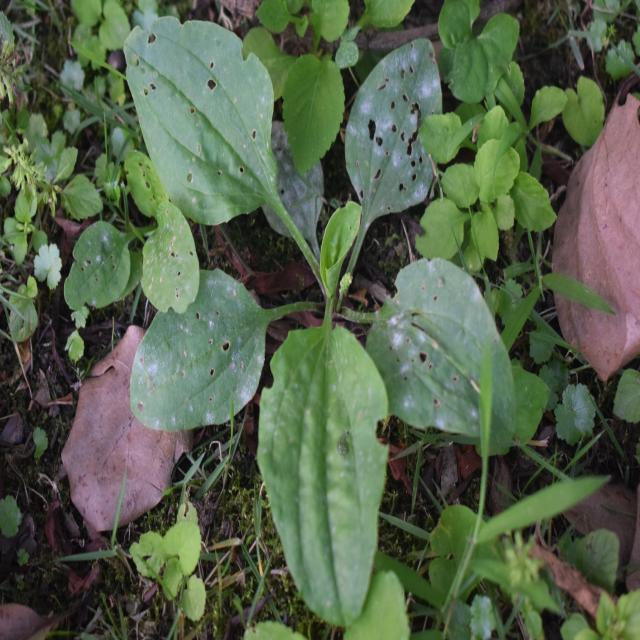plantain: (115, 0, 475, 585)
